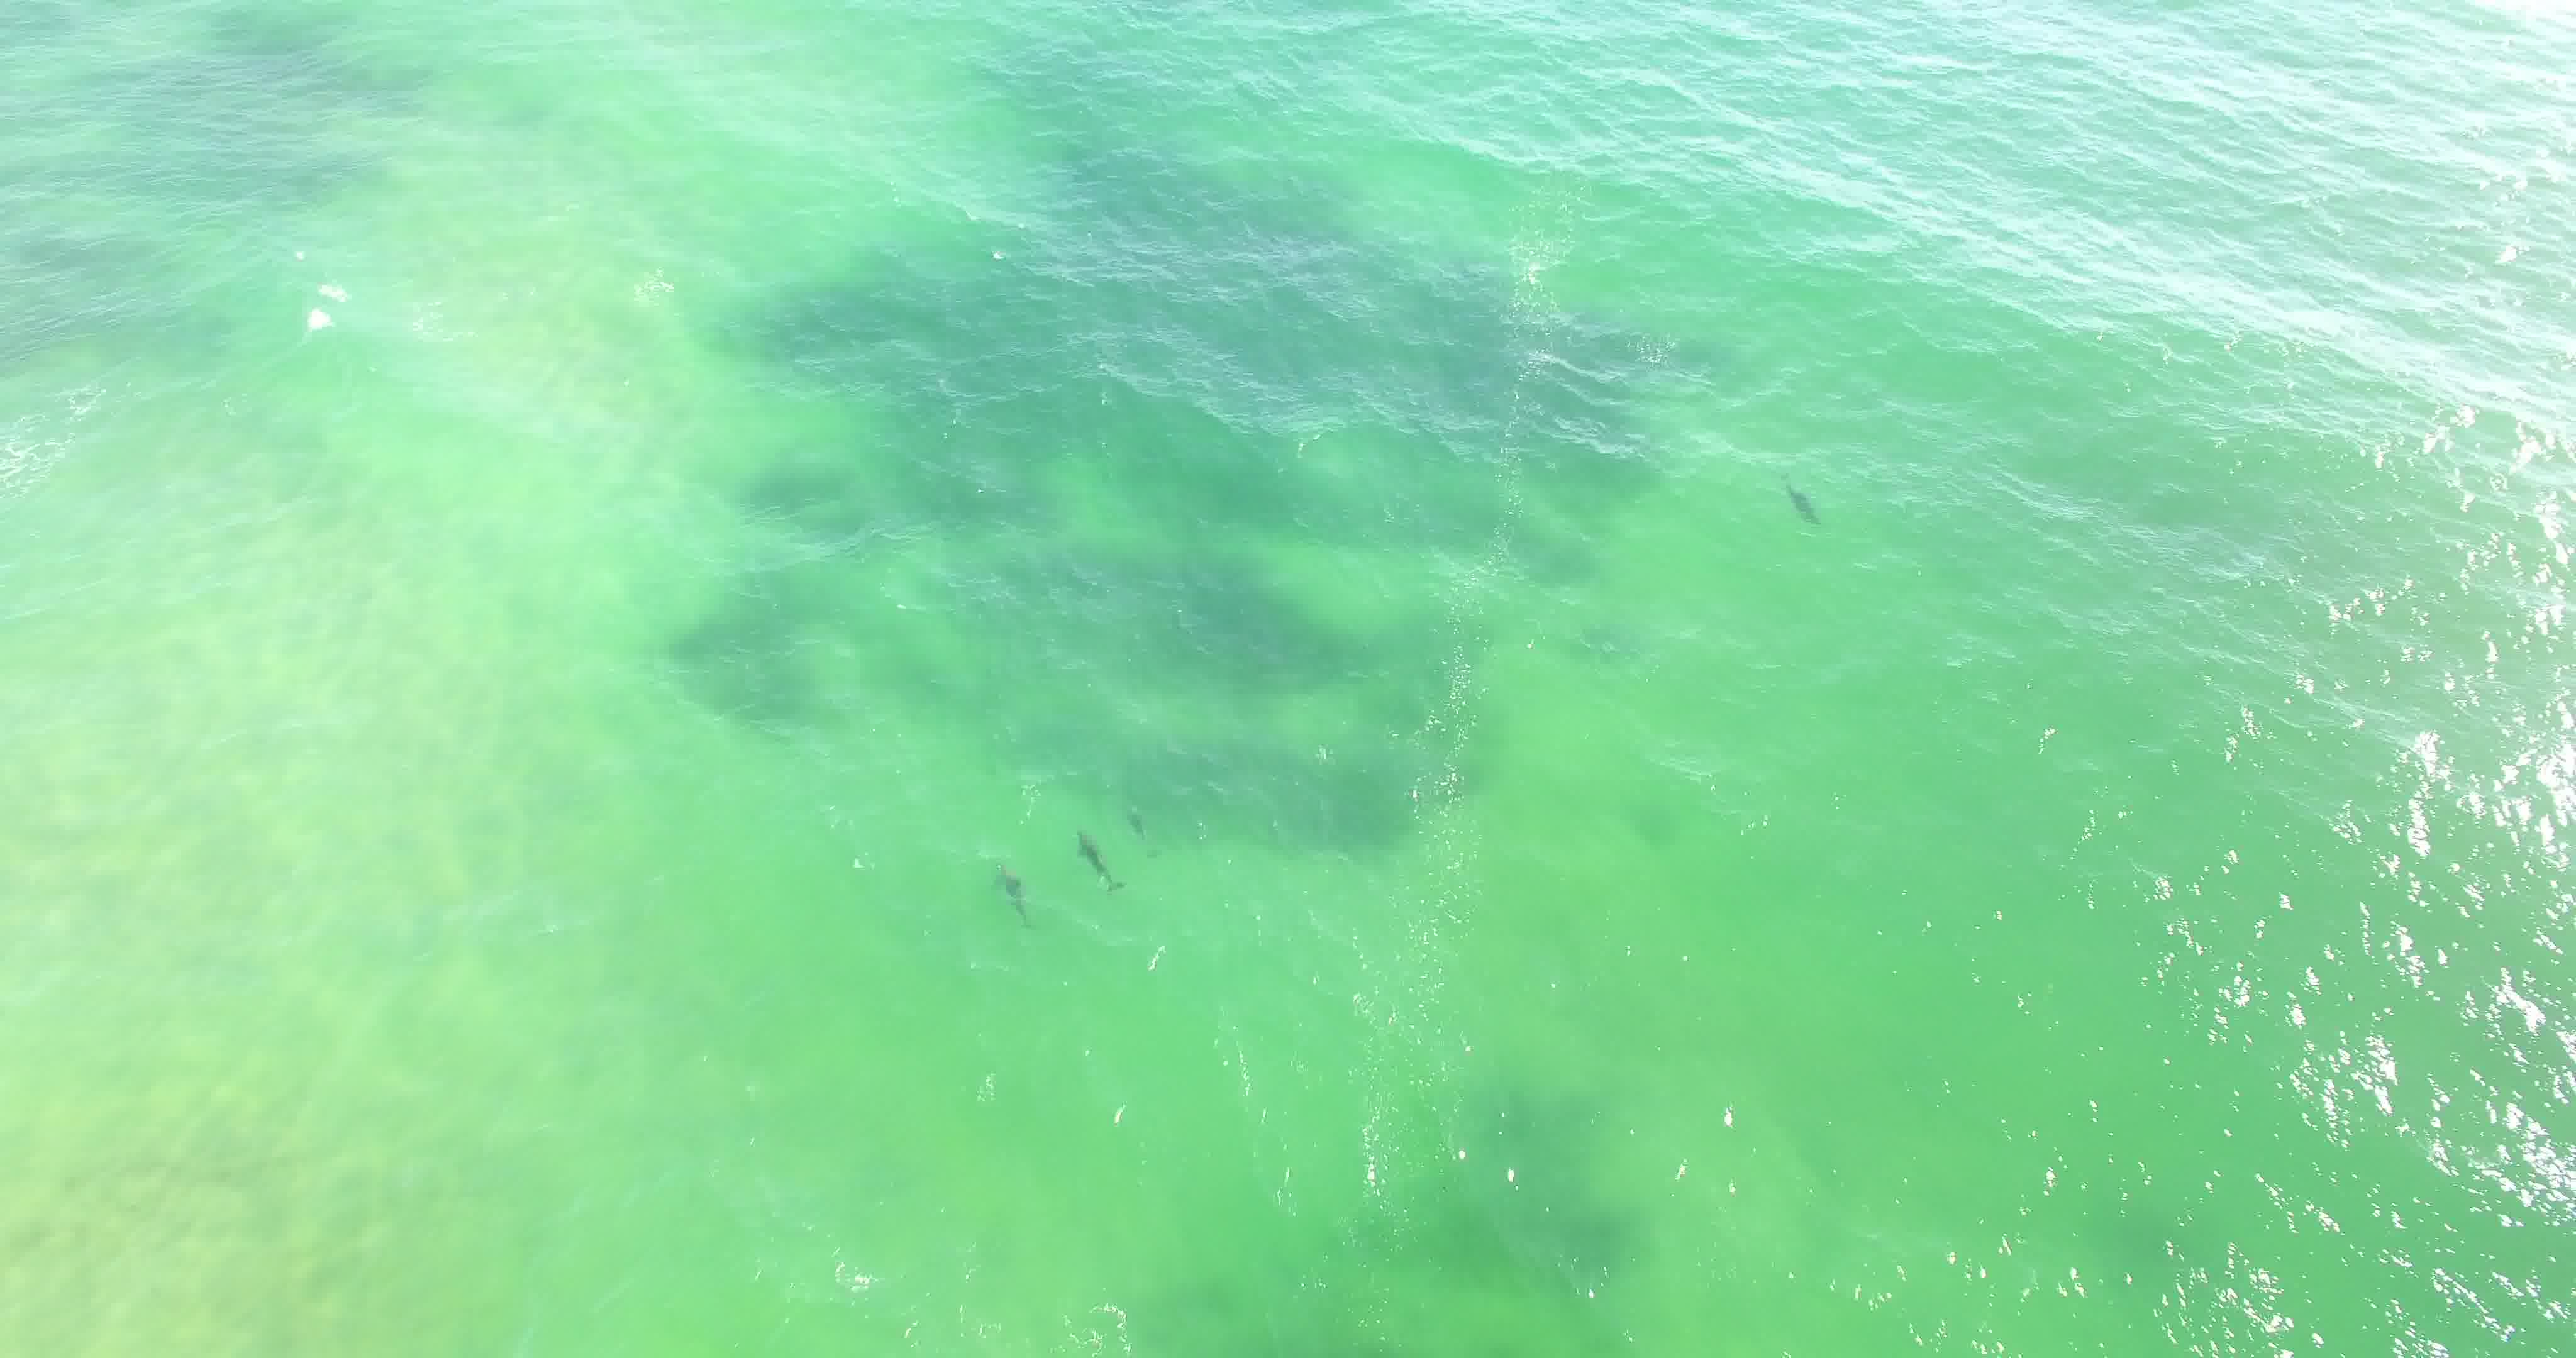dolphin: (1039, 816, 1135, 915), (1755, 446, 1828, 535), (1090, 791, 1172, 866), (978, 852, 1041, 927)
